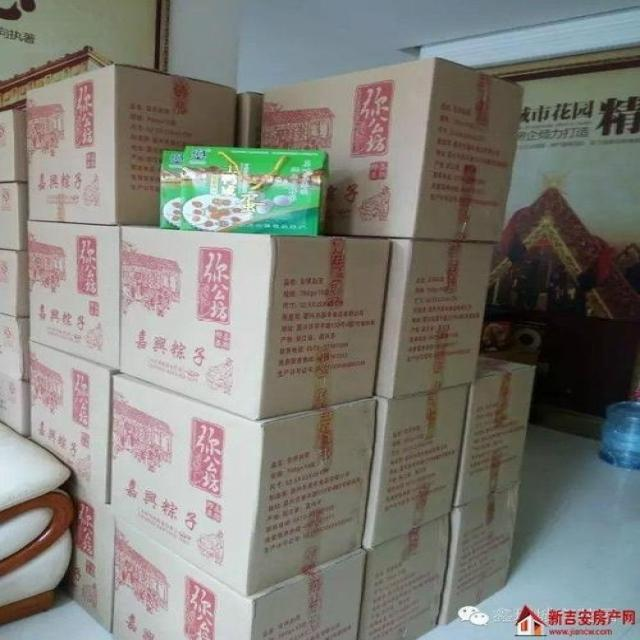box: (109, 372, 378, 597), (122, 224, 392, 421), (260, 56, 525, 243), (26, 64, 238, 225), (111, 518, 369, 640), (375, 239, 494, 399), (362, 386, 468, 549), (29, 342, 120, 505), (29, 221, 120, 372), (180, 145, 332, 235), (452, 355, 538, 507), (436, 482, 520, 627), (358, 515, 452, 640), (60, 483, 115, 634), (0, 108, 28, 182), (0, 312, 29, 381), (0, 372, 31, 435), (0, 250, 29, 317), (0, 182, 28, 251), (159, 151, 183, 229), (238, 92, 261, 147)
